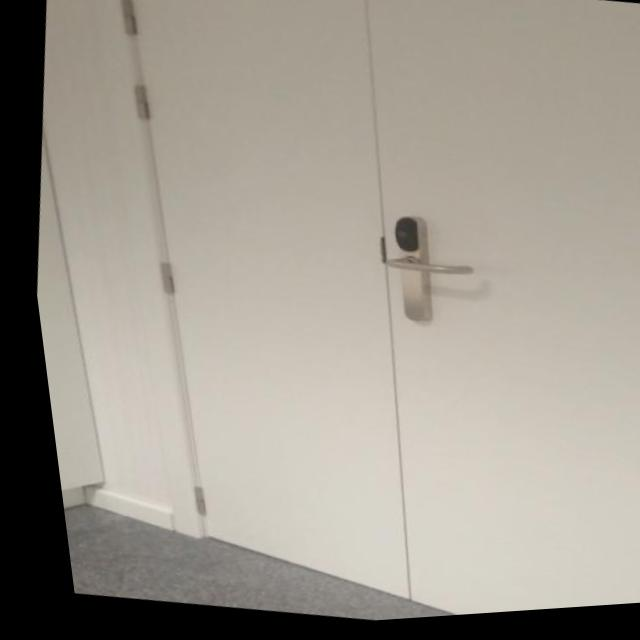door_handle: (370, 253, 470, 291)
